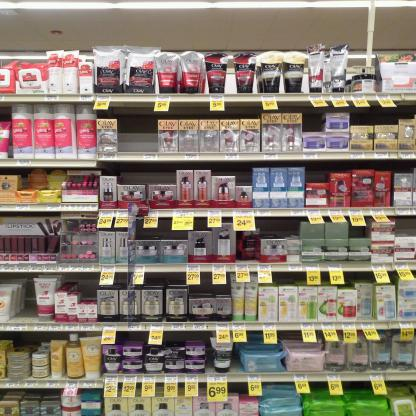Void: (116, 163, 174, 183), (123, 117, 154, 151), (10, 285, 37, 315), (353, 110, 397, 124), (257, 216, 291, 233), (146, 273, 182, 286), (302, 110, 322, 132), (399, 216, 415, 234)
